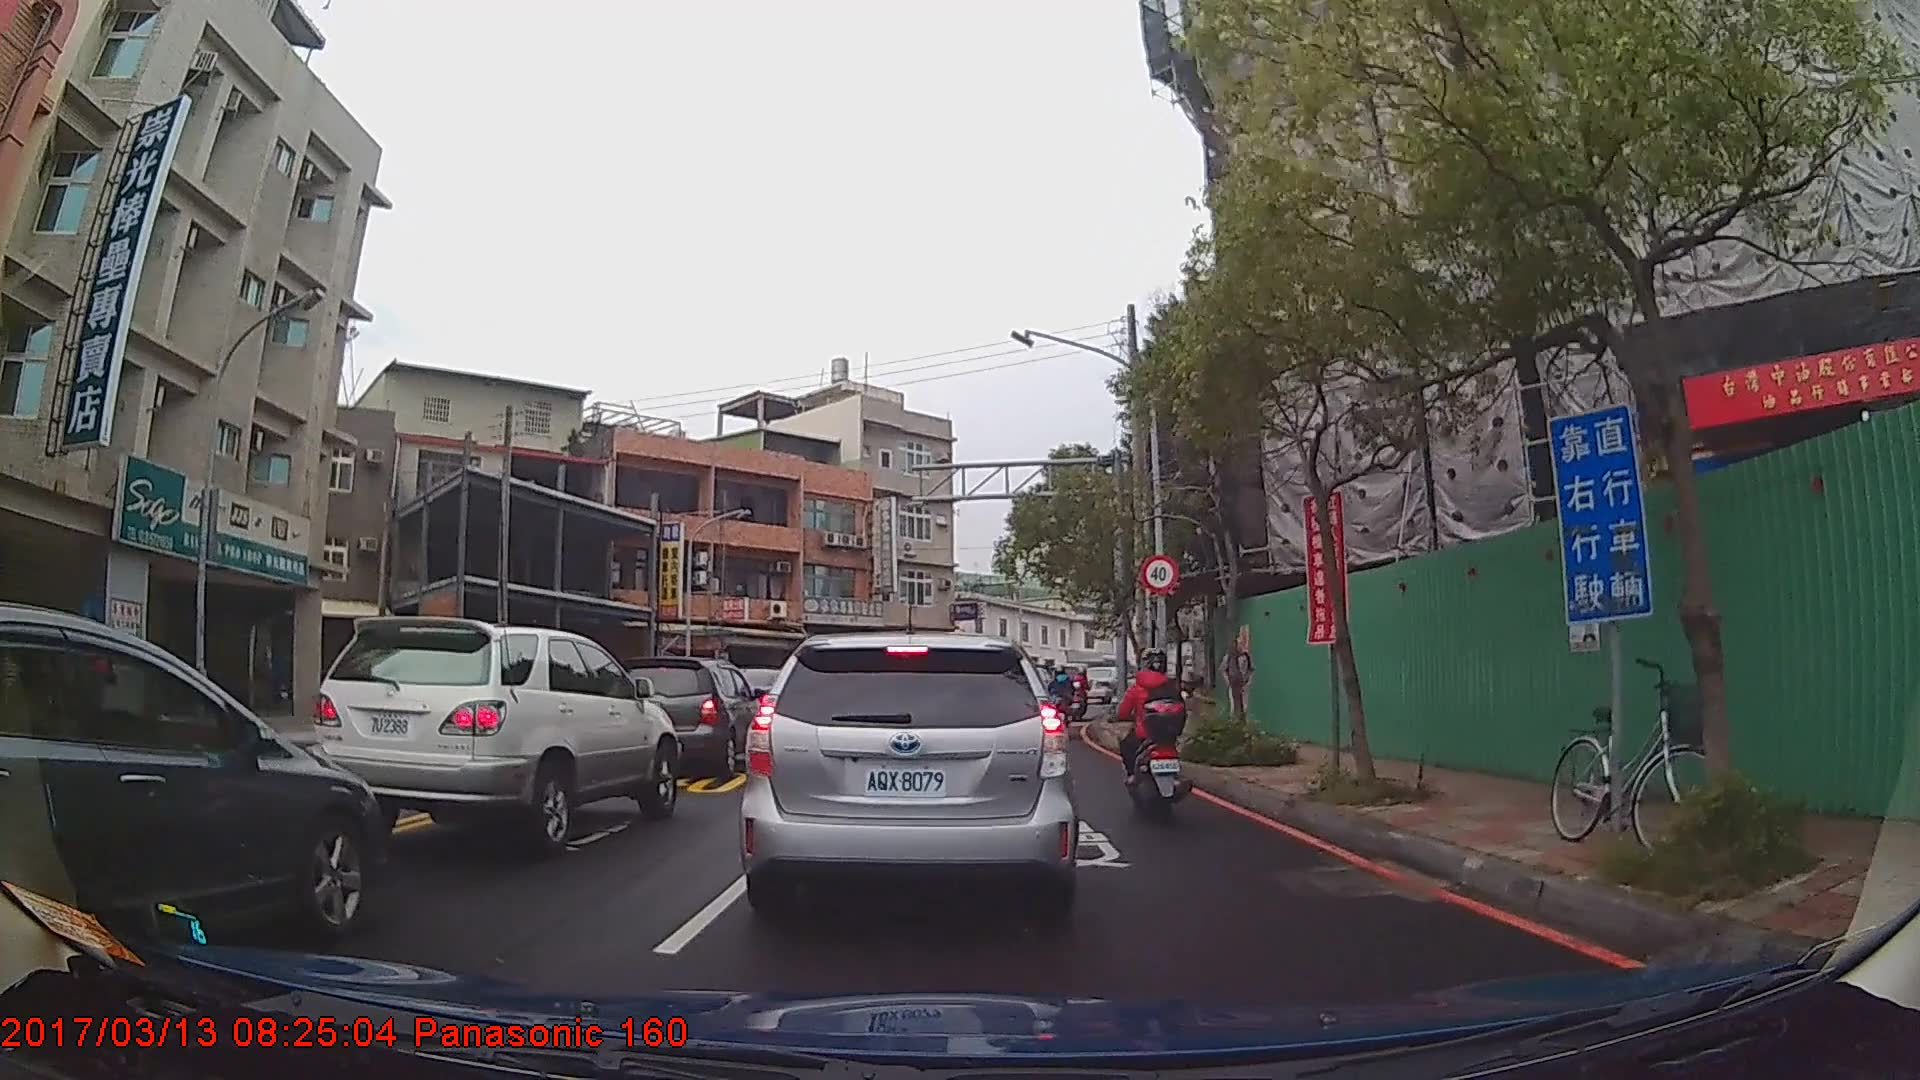pedestrian: (1219, 637, 1257, 739)
rider: (1112, 646, 1193, 823), (1052, 666, 1078, 737), (1070, 666, 1091, 720)
vehicle: (0, 601, 389, 960), (740, 629, 1080, 926), (305, 613, 684, 851), (611, 655, 767, 773)
